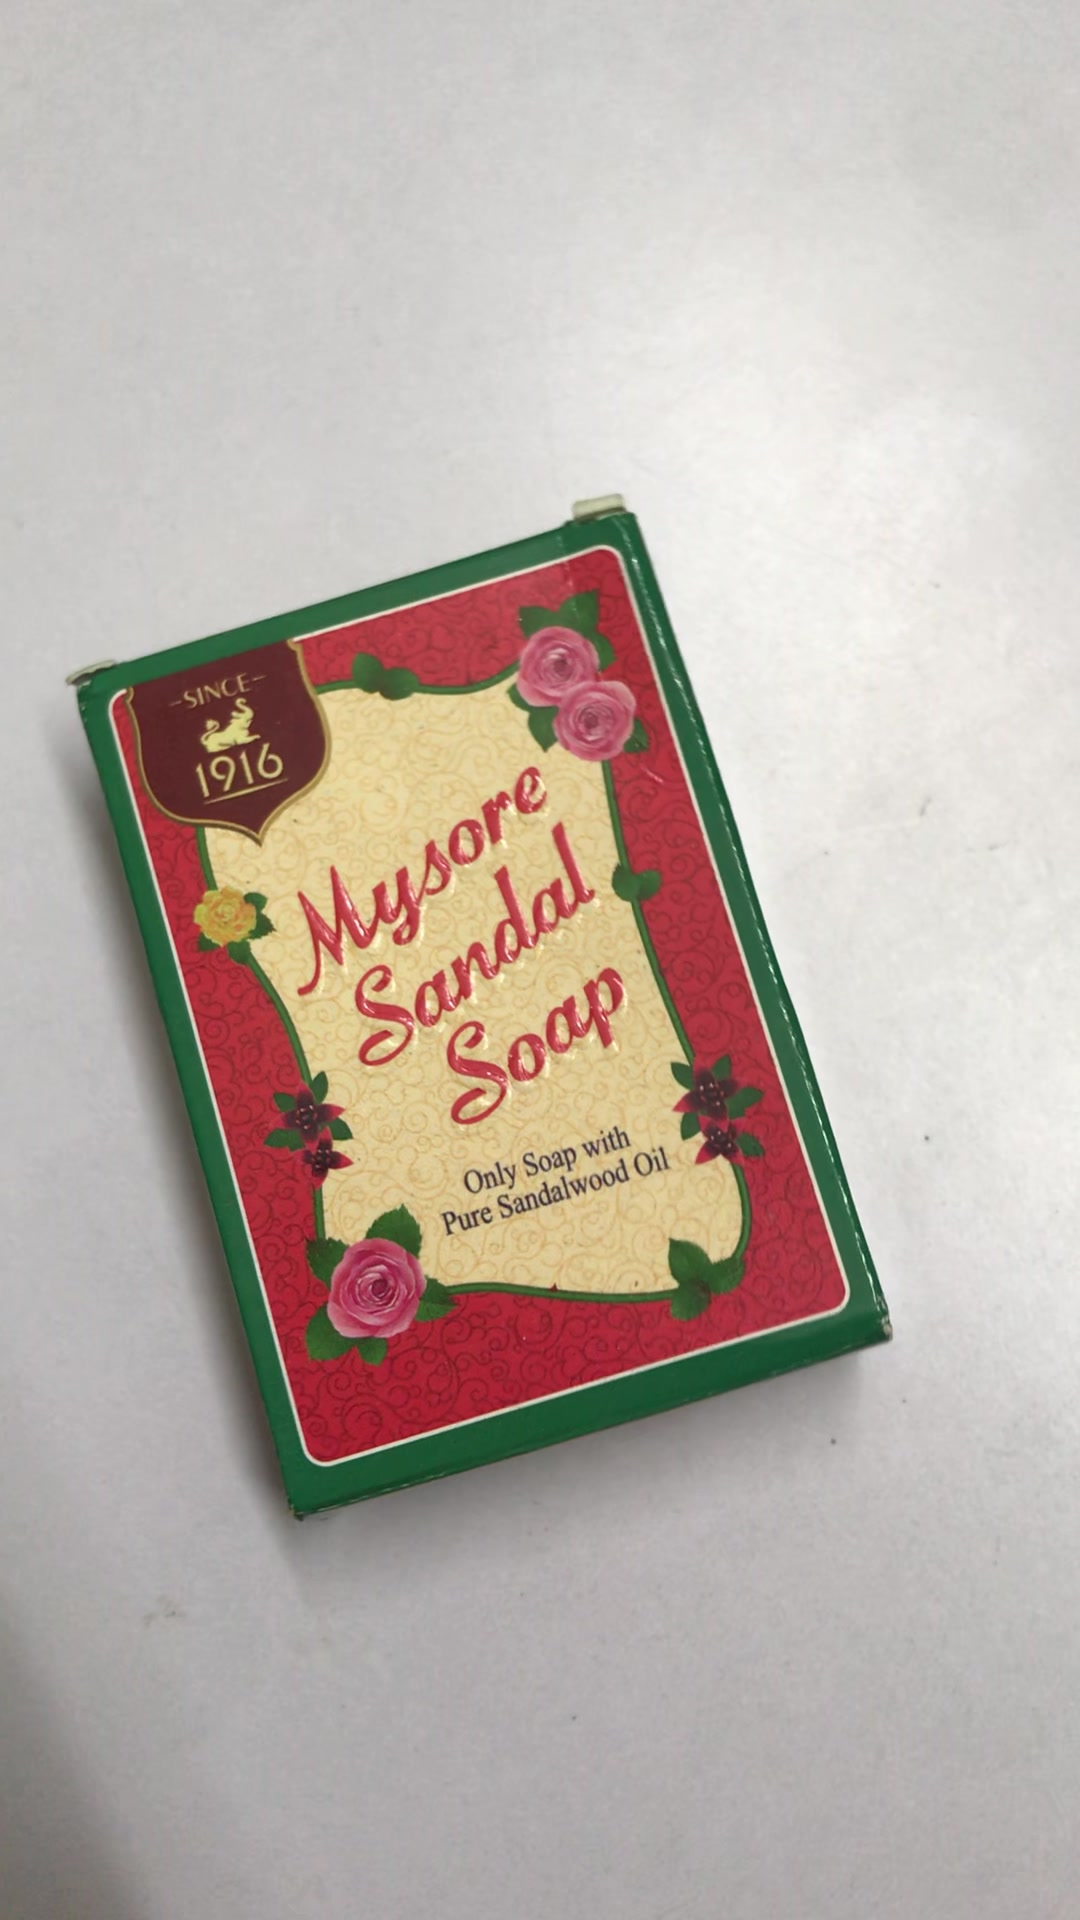mysore sandal soap: (70, 516, 880, 1516)
